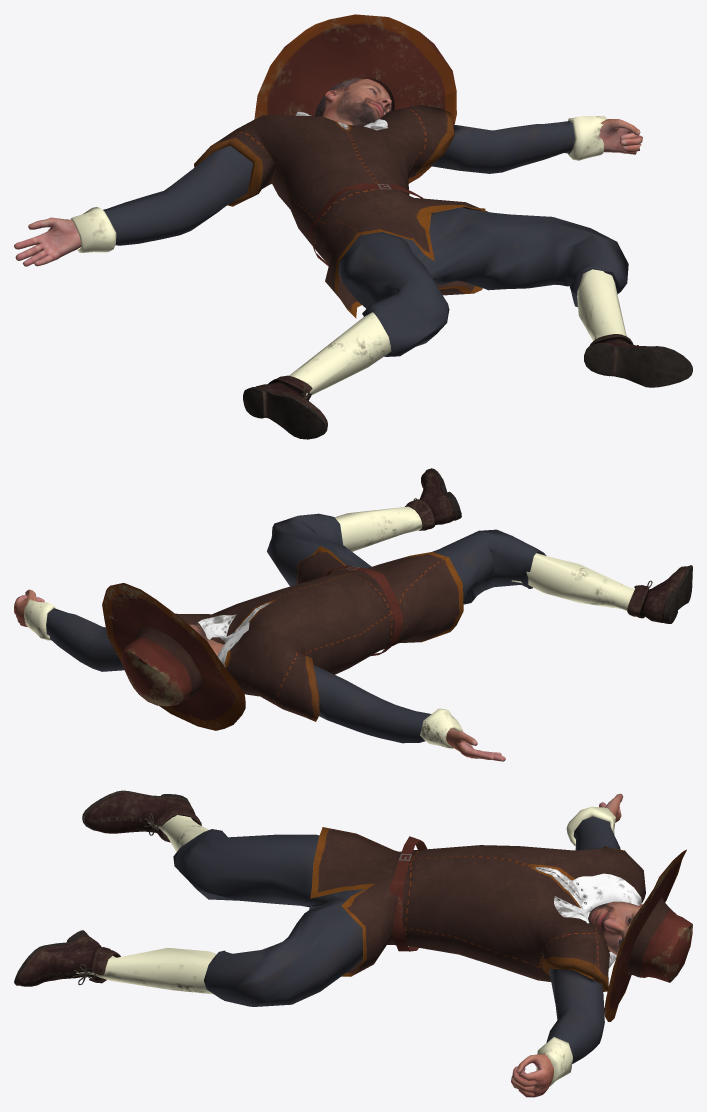
Rendered from DeadSoldierSample.fbx.
The picture shows the model from 3 angles, top to bottom: view 1: azimuth 30°, elevation 25°; view 2: azimuth 150°, elevation 25°; view 3: azimuth 270°, elevation 25°; orthographic projection. The views are drawn at different scales.
Parts seen in each view (by area): view 1: DeadSoldierLOD0; view 2: DeadSoldierLOD0; view 3: DeadSoldierLOD0.
Part boxes in pixels (x1,y1,x2,y2): DeadSoldierLOD0: [14, 14, 692, 439]; DeadSoldierLOD0: [14, 468, 692, 761]; DeadSoldierLOD0: [14, 790, 692, 1097].
Size of what is drawn, in the model's own units: 173 by 46.89 by 173.
